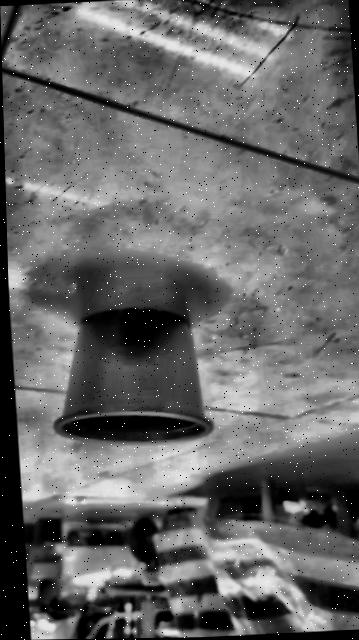pot: (46, 305, 213, 448)
